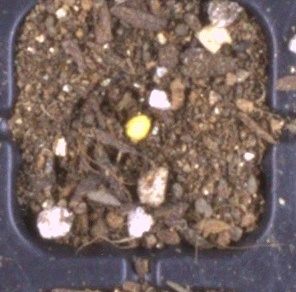chilli seed: (124, 114, 151, 142)
